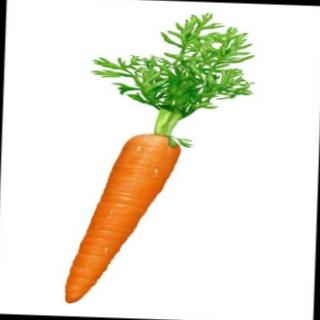Wortel: (63, 131, 183, 308)
